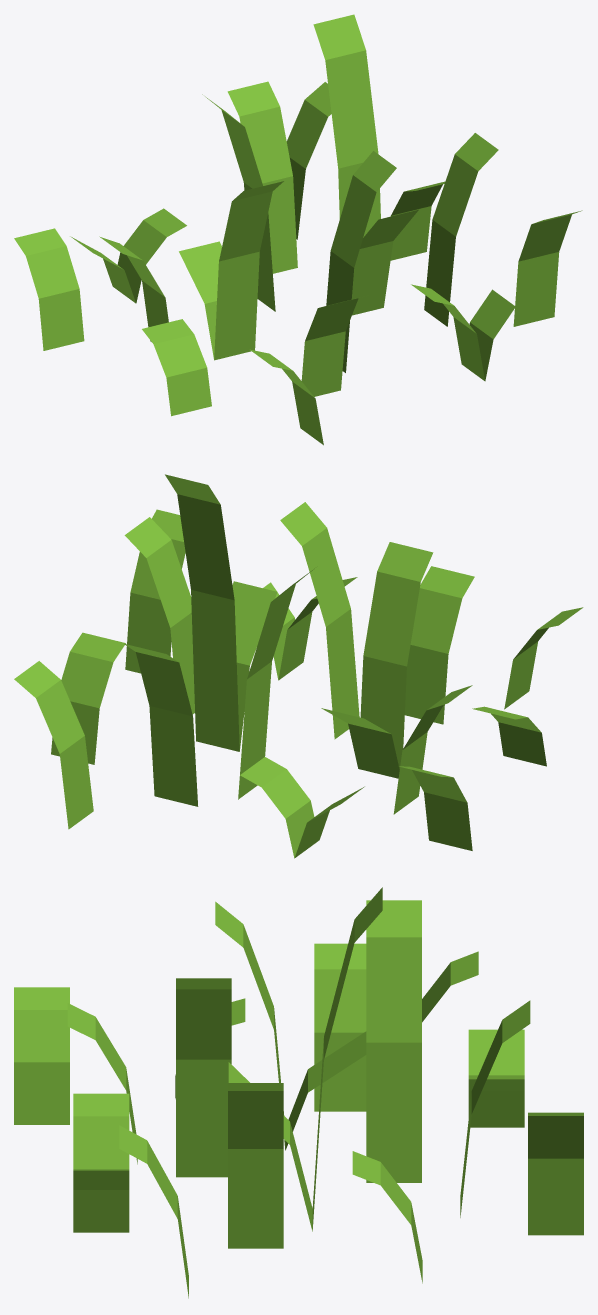
The model's file is grass_tuft_large.glb.
3 views of the same model, one above another, from view 1: azimuth 30°, elevation 25°; view 2: azimuth 150°, elevation 25°; view 3: azimuth 270°, elevation 25° (orthographic). The views are drawn at different scales.
Visible parts, largest first — view 1: grass_large; view 2: grass_large; view 3: grass_large.
Boxes of the visible parts, left/top/right/bottom form: grass_large: left=14, top=14, right=582, bottom=445; grass_large: left=14, top=474, right=583, bottom=858; grass_large: left=14, top=887, right=583, bottom=1298.
Size of the model in its own units: 0.5726 by 0.3556 by 0.571.
